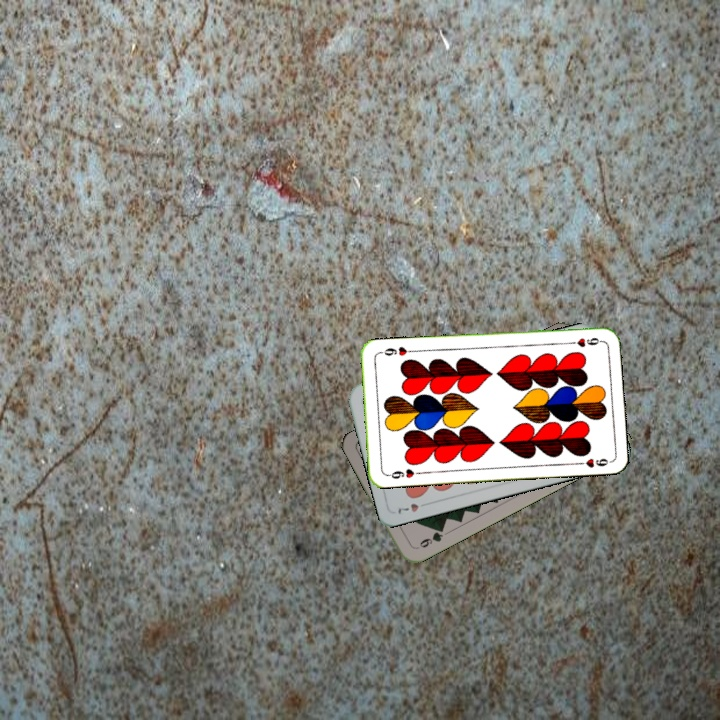G9: (411, 523, 447, 552)
H7: (394, 498, 432, 516)
H9: (564, 334, 604, 350), (383, 465, 417, 482)
